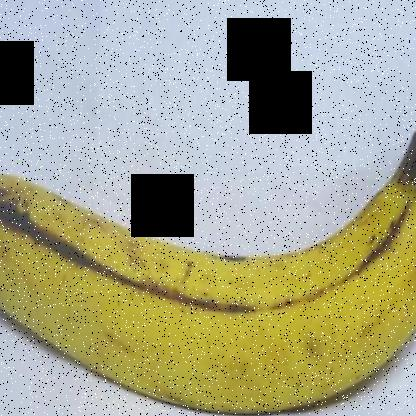ripe: (1, 122, 416, 415)
